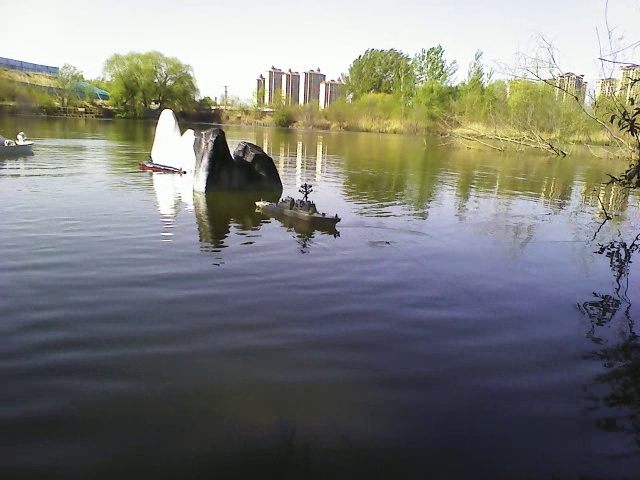boat: (2, 124, 38, 155)
iceberg: (151, 103, 196, 170)
rock: (194, 122, 284, 191)
submarine: (141, 158, 186, 177)
warship: (250, 192, 344, 230)
